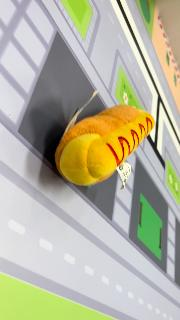hotdog: (54, 103, 156, 189)
